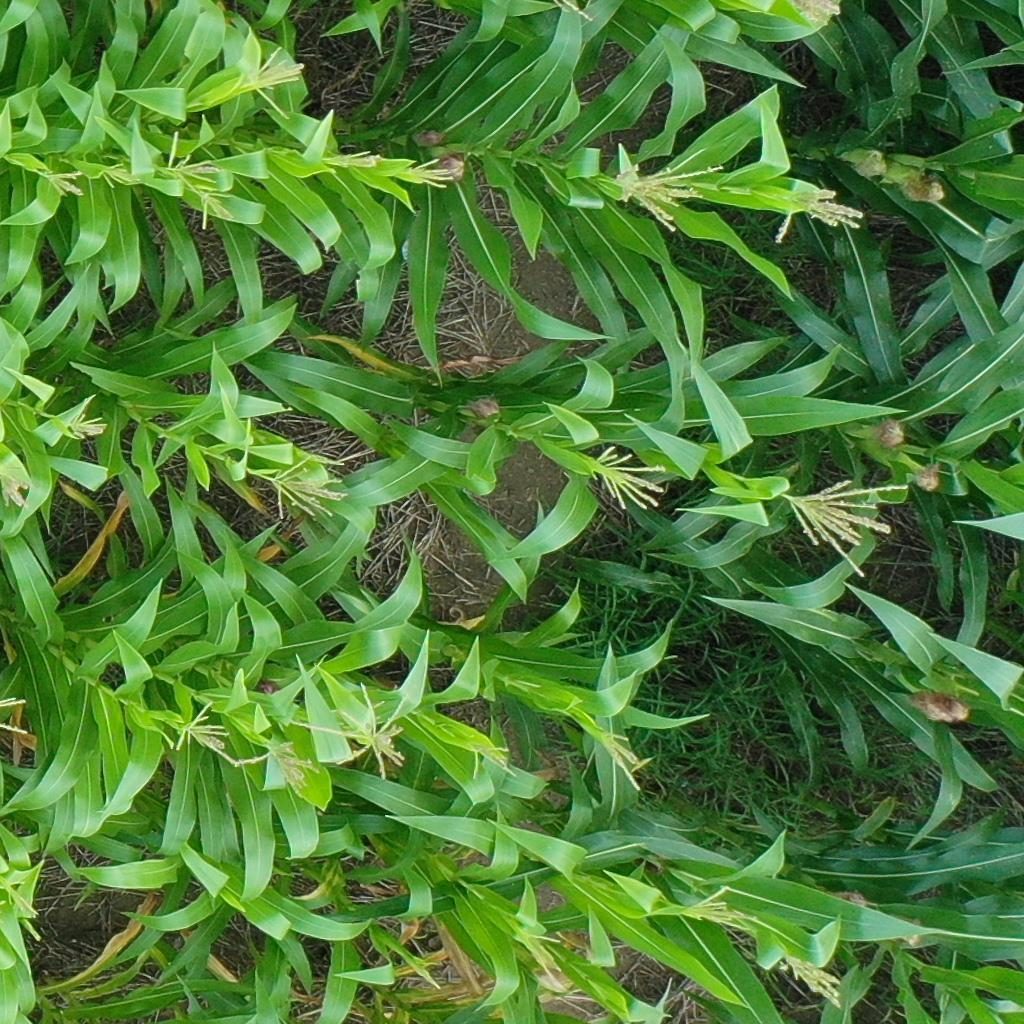Tassel: (779, 473, 912, 581), (287, 677, 412, 780), (619, 144, 725, 236), (161, 131, 241, 223), (771, 180, 869, 245), (267, 452, 347, 531), (587, 443, 669, 518), (237, 738, 323, 805), (245, 36, 311, 120), (168, 696, 238, 769), (591, 718, 651, 792), (782, 951, 846, 1008), (679, 879, 745, 934), (520, 922, 564, 982), (467, 737, 519, 784), (1, 872, 44, 919), (403, 156, 461, 189), (322, 143, 381, 174), (66, 409, 113, 446), (43, 159, 86, 199), (789, 1, 847, 30), (102, 156, 144, 195), (1, 459, 32, 510), (1, 692, 34, 738)
